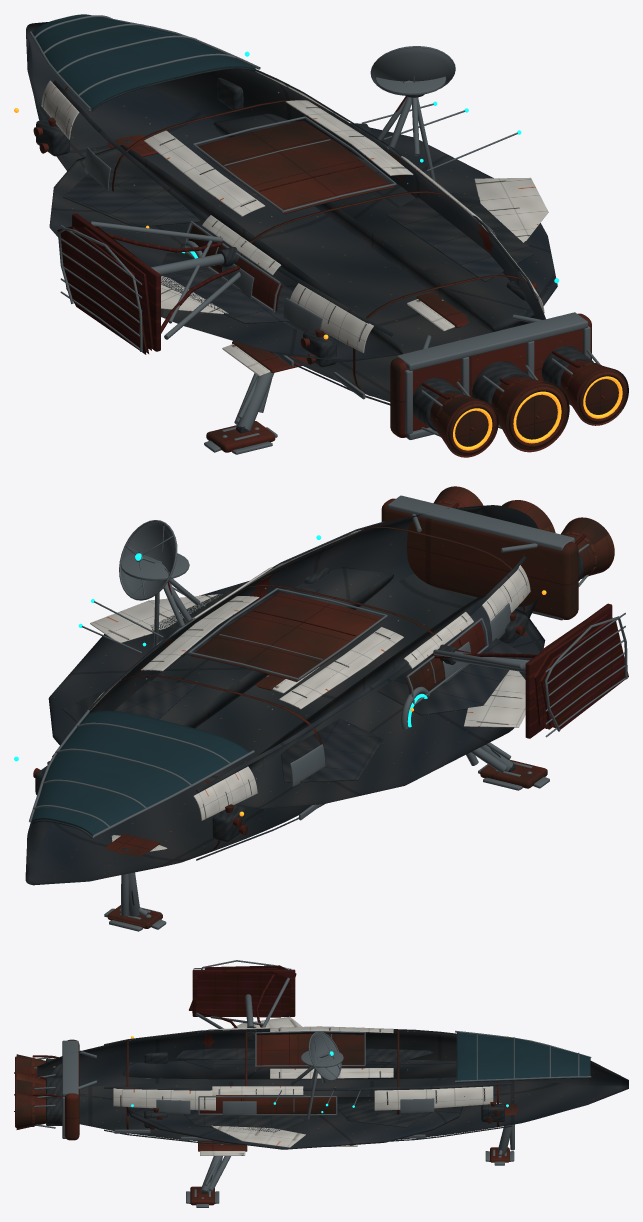
Rendered from lyra-exterior.glb.
The picture shows the model from 3 angles, top to bottom: view 1: azimuth 30°, elevation 25°; view 2: azimuth 150°, elevation 25°; view 3: azimuth 270°, elevation 25°; orthographic projection. The views are drawn at different scales.
Visible parts, largest first — view 1: LOD1_BATCH_Armor_Graphite, LOD0_BATCH_Armor_Graphite, LOD0_BATCH_Heat_Ceramic, LOD0_BATCH_Metal_Satin, LOD0_BATCH_Hull_Ivory, LOD0_BATCH_Canopy_Glass, LOD1_BATCH_Canopy_Glass, LOD0_BATCH_Radiator_Copper, LOD1_BATCH_Heat_Ceramic, LOD1_BATCH_Radiator_Copper, LOD1_BATCH_Emission_Amber, LOD1_BATCH_Metal_Satin; view 2: LOD1_BATCH_Armor_Graphite, LOD0_BATCH_Armor_Graphite, LOD0_BATCH_Heat_Ceramic, LOD0_BATCH_Metal_Satin, LOD0_BATCH_Canopy_Glass, LOD0_BATCH_Hull_Ivory, LOD1_BATCH_Canopy_Glass, LOD0_BATCH_Radiator_Copper, LOD1_BATCH_Radiator_Copper, LOD1_BATCH_Metal_Satin; view 3: LOD1_BATCH_Armor_Graphite, LOD0_BATCH_Armor_Graphite, LOD0_BATCH_Heat_Ceramic, LOD0_BATCH_Metal_Satin, LOD0_BATCH_Hull_Ivory, LOD0_BATCH_Canopy_Glass, LOD0_BATCH_Radiator_Copper, LOD1_BATCH_Canopy_Glass, LOD1_BATCH_Radiator_Copper, LOD1_BATCH_Metal_Satin.
Part boxes in pixels (left/top/right/bottom): LOD1_BATCH_Armor_Graphite: left=26, top=22, right=545, bottom=401; LOD0_BATCH_Armor_Graphite: left=26, top=23, right=593, bottom=433; LOD0_BATCH_Heat_Ceramic: left=33, top=87, right=628, bottom=457; LOD0_BATCH_Metal_Satin: left=29, top=15, right=600, bottom=454; LOD0_BATCH_Hull_Ivory: left=41, top=71, right=548, bottom=376; LOD0_BATCH_Canopy_Glass: left=32, top=14, right=255, bottom=109; LOD1_BATCH_Canopy_Glass: left=33, top=15, right=254, bottom=108; LOD0_BATCH_Radiator_Copper: left=57, top=96, right=580, bottom=400; LOD1_BATCH_Heat_Ceramic: left=445, top=368, right=627, bottom=455; LOD1_BATCH_Radiator_Copper: left=72, top=213, right=160, bottom=351; LOD1_BATCH_Emission_Amber: left=453, top=376, right=622, bottom=450; LOD1_BATCH_Metal_Satin: left=375, top=76, right=446, bottom=148; LOD1_BATCH_Armor_Graphite: left=25, top=505, right=545, bottom=884; LOD0_BATCH_Armor_Graphite: left=25, top=505, right=583, bottom=916; LOD0_BATCH_Heat_Ceramic: left=33, top=486, right=614, bottom=928; LOD0_BATCH_Metal_Satin: left=29, top=495, right=627, bottom=931; LOD0_BATCH_Canopy_Glass: left=31, top=710, right=249, bottom=836; LOD0_BATCH_Hull_Ivory: left=84, top=529, right=530, bottom=851; LOD1_BATCH_Canopy_Glass: left=32, top=711, right=248, bottom=835; LOD0_BATCH_Radiator_Copper: left=167, top=503, right=628, bottom=729; LOD1_BATCH_Radiator_Copper: left=525, top=603, right=612, bottom=738; LOD1_BATCH_Metal_Satin: left=120, top=553, right=191, bottom=621; LOD1_BATCH_Armor_Graphite: left=37, top=1029, right=627, bottom=1142; LOD0_BATCH_Armor_Graphite: left=37, top=1026, right=628, bottom=1193; LOD0_BATCH_Heat_Ceramic: left=14, top=1030, right=518, bottom=1205; LOD0_BATCH_Metal_Satin: left=34, top=960, right=591, bottom=1207; LOD0_BATCH_Hull_Ivory: left=113, top=1016, right=501, bottom=1155; LOD0_BATCH_Canopy_Glass: left=457, top=1032, right=590, bottom=1080; LOD0_BATCH_Radiator_Copper: left=32, top=965, right=296, bottom=1101; LOD1_BATCH_Canopy_Glass: left=457, top=1032, right=589, bottom=1080; LOD1_BATCH_Radiator_Copper: left=192, top=969, right=295, bottom=1016; LOD1_BATCH_Metal_Satin: left=301, top=1050, right=343, bottom=1085.
Size of what is drawn, in the model's own units: 34.68 by 18.66 by 64.78.
Materials: 8 (4 with a texture image).
